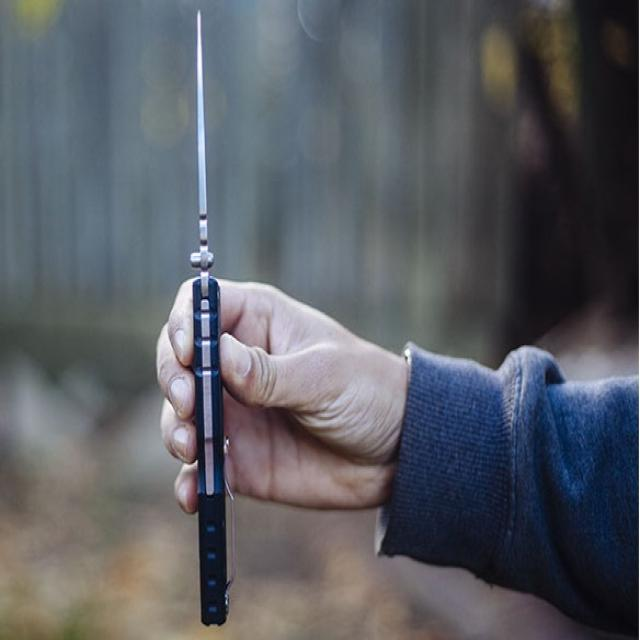knife: (191, 6, 238, 628)
